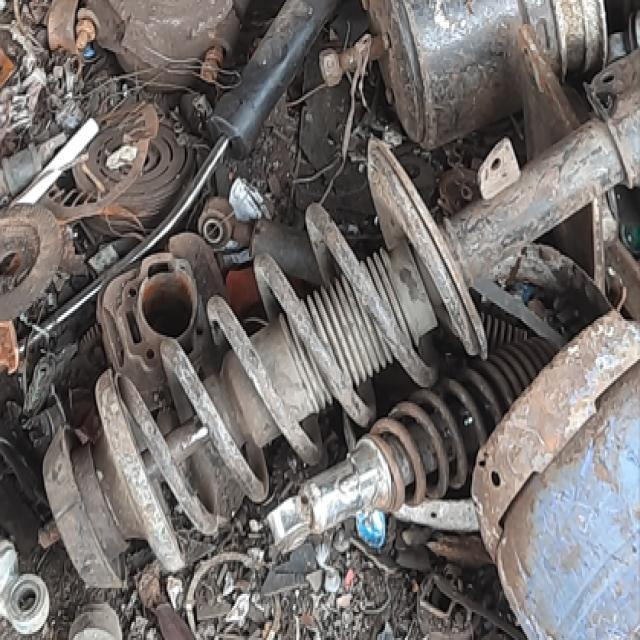shock absorber: (43, 46, 638, 591), (17, 1, 341, 357)
